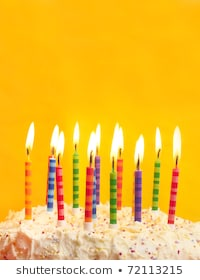Fire: (87, 123, 103, 163), (50, 122, 66, 161), (111, 123, 124, 167), (133, 135, 146, 168), (172, 124, 182, 165), (25, 120, 36, 157), (154, 127, 164, 159), (71, 121, 82, 150)
